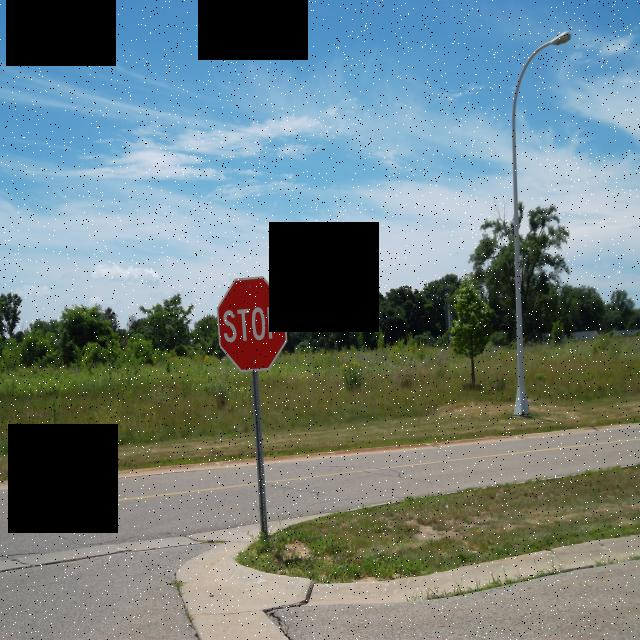stop: (212, 271, 290, 376)
